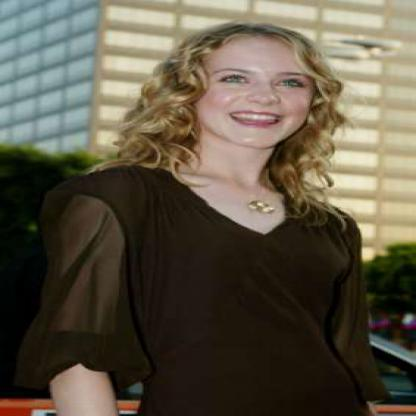face: (189, 27, 322, 151)
